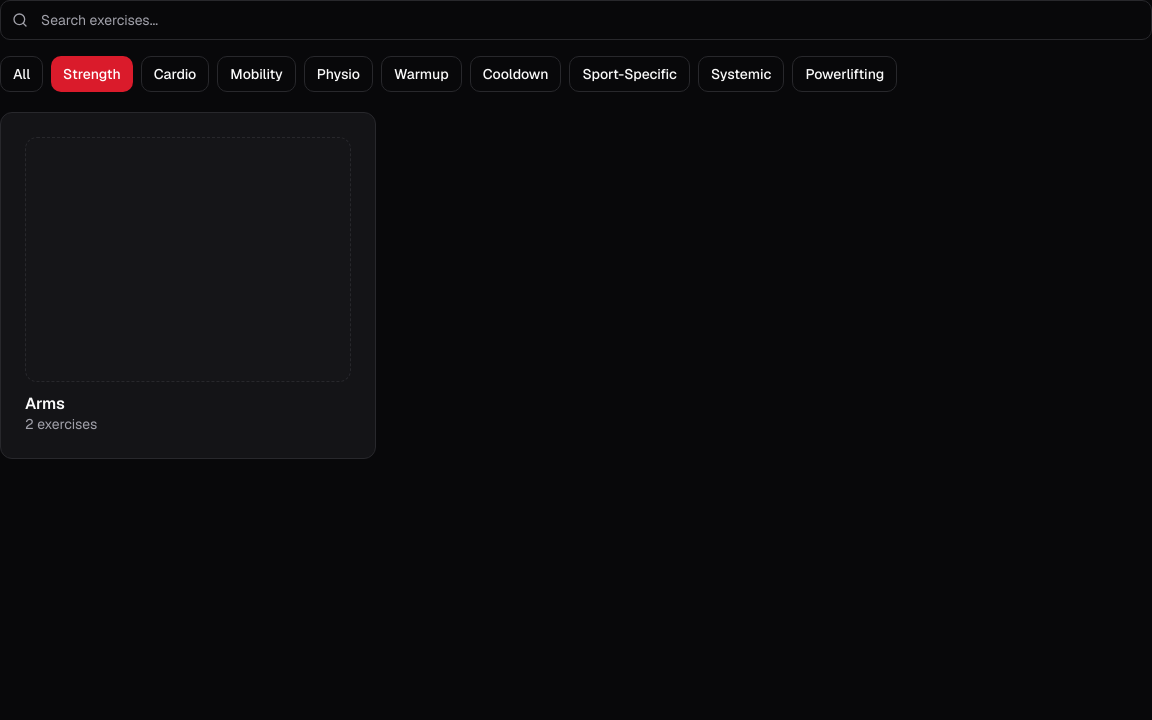
Coach ExerciseLibrary — shared browse › coach rows headline the dense `name`; ⓘ opens the coach demo card (name + client_name subline)
Click the button with aria-label "Browse Arms exercises".
click(188, 285)  # box 0,112 -> 376,458
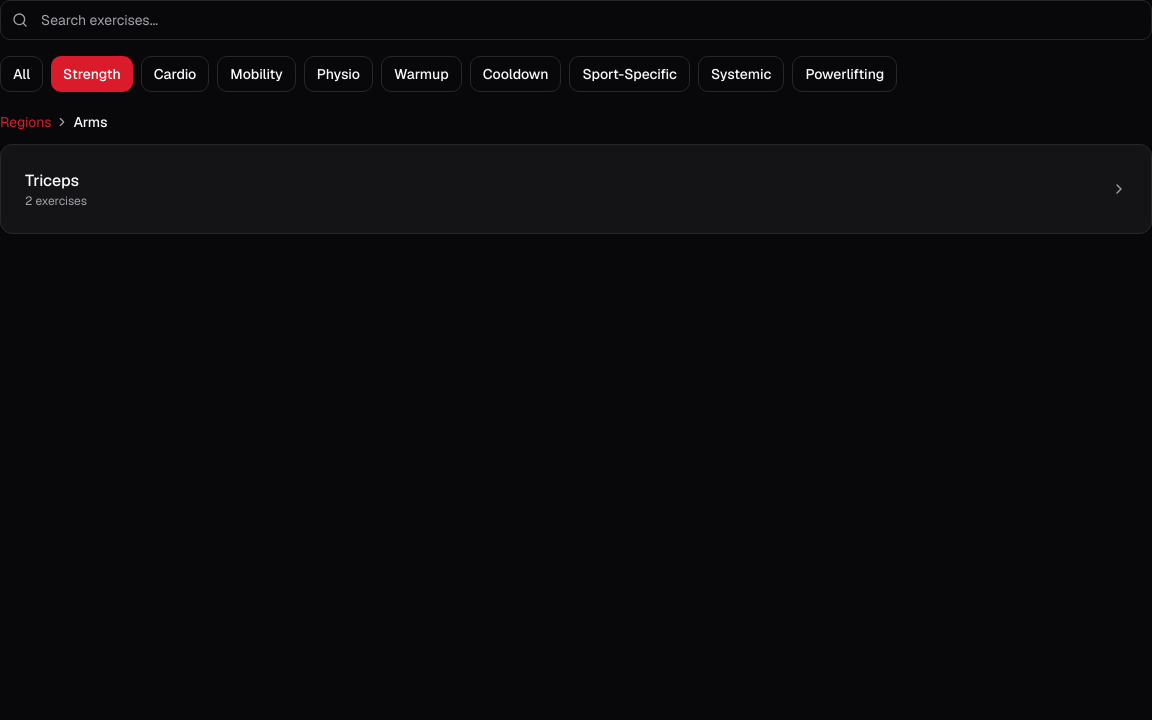
Click the button "Triceps 2 exercises".
click(52, 180)  # box 0,144 -> 1151,234
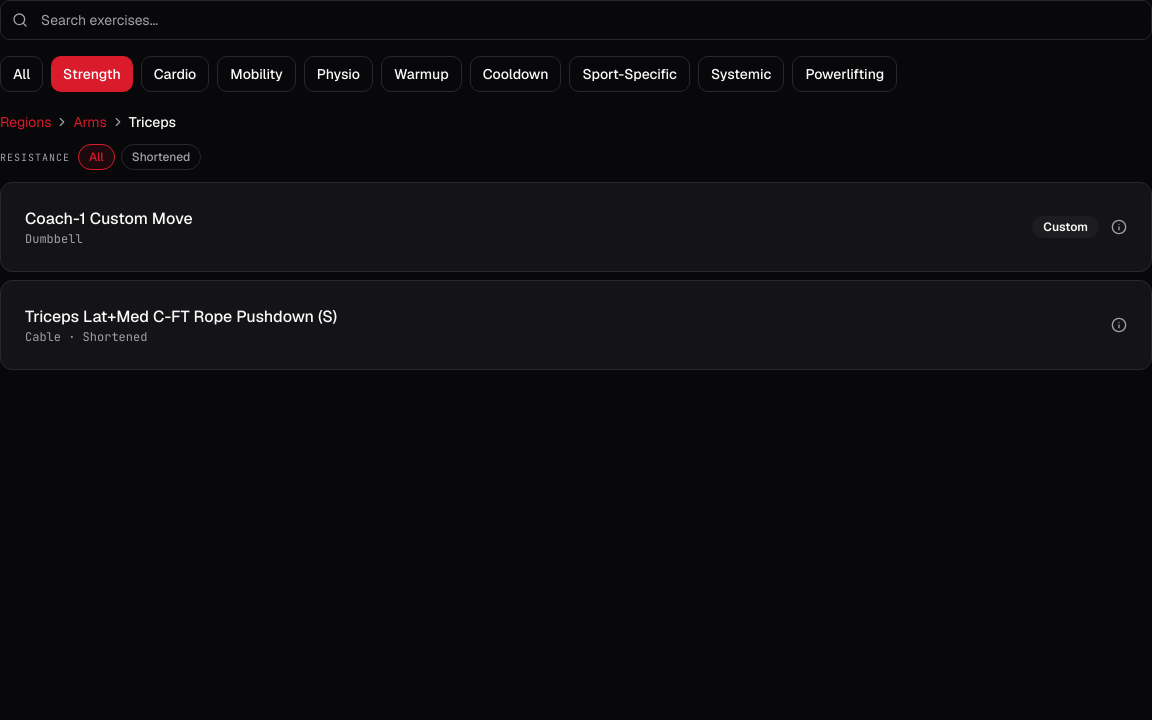
Expected: the text "Triceps Rope Pushdown" is not shown
Expected: the text "Triceps Lat+Med C-FT Rope Pushdown (S)" is shown, 25,306 -> 337,327
Click the button "Triceps Lat+Med C-FT Rope Pushdown (S) Cable · Shortened".
click(181, 316)  # box 0,280 -> 1151,370
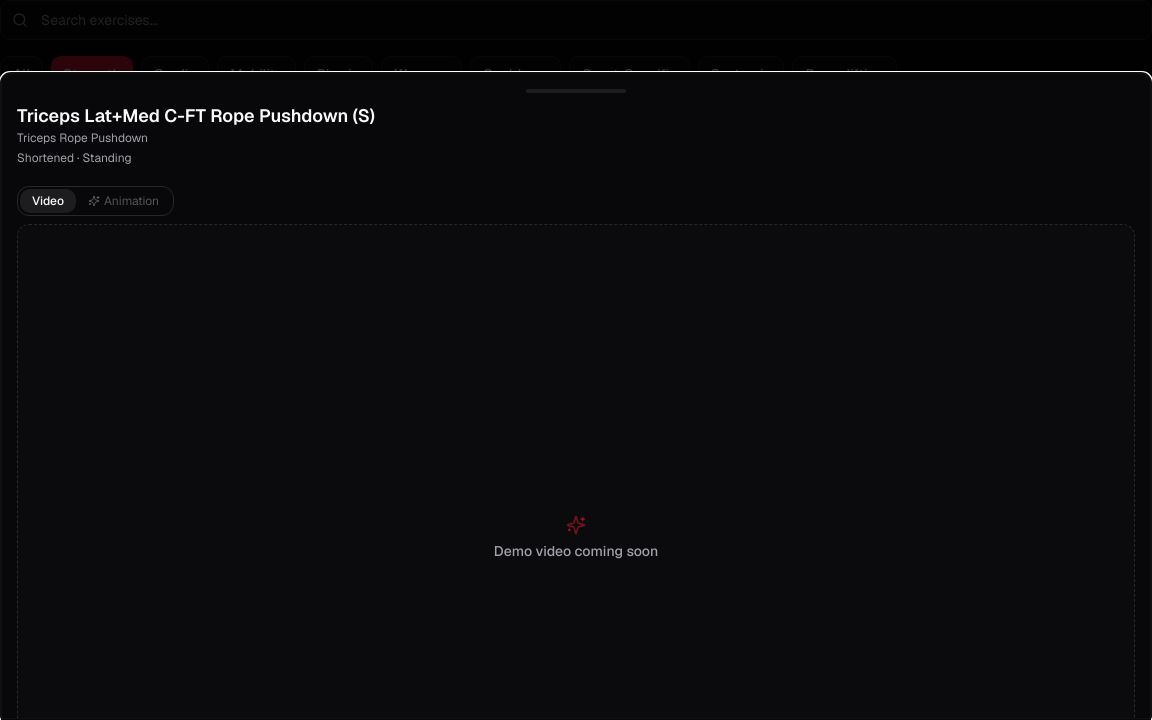
Expected: the text "Triceps Rope Pushdown" is shown, 17,130 -> 148,146
Expected: the text "Standing" is shown, 17,150 -> 132,166
